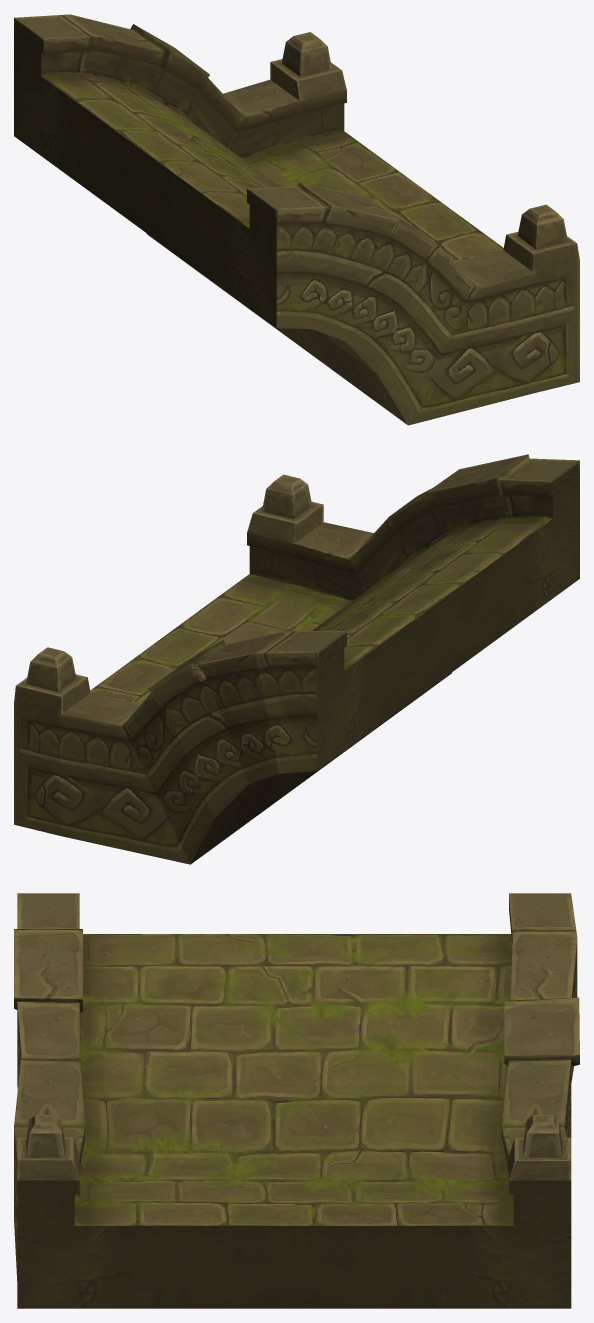
The model's file is stone_bridge_03.fbx.
3 views of the same model, one above another, from view 1: azimuth 30°, elevation 25°; view 2: azimuth 150°, elevation 25°; view 3: azimuth 270°, elevation 25° (orthographic). The views are drawn at different scales.
Parts seen in each view (by area): view 1: obj2.003; view 2: obj2.003; view 3: obj2.003.
Part boxes in pixels (x1,y1,x2,y2): obj2.003: [14, 14, 579, 425]; obj2.003: [14, 454, 579, 864]; obj2.003: [14, 893, 579, 1308].
Size of the model in its own units: 4 by 3.1 by 6.13.
